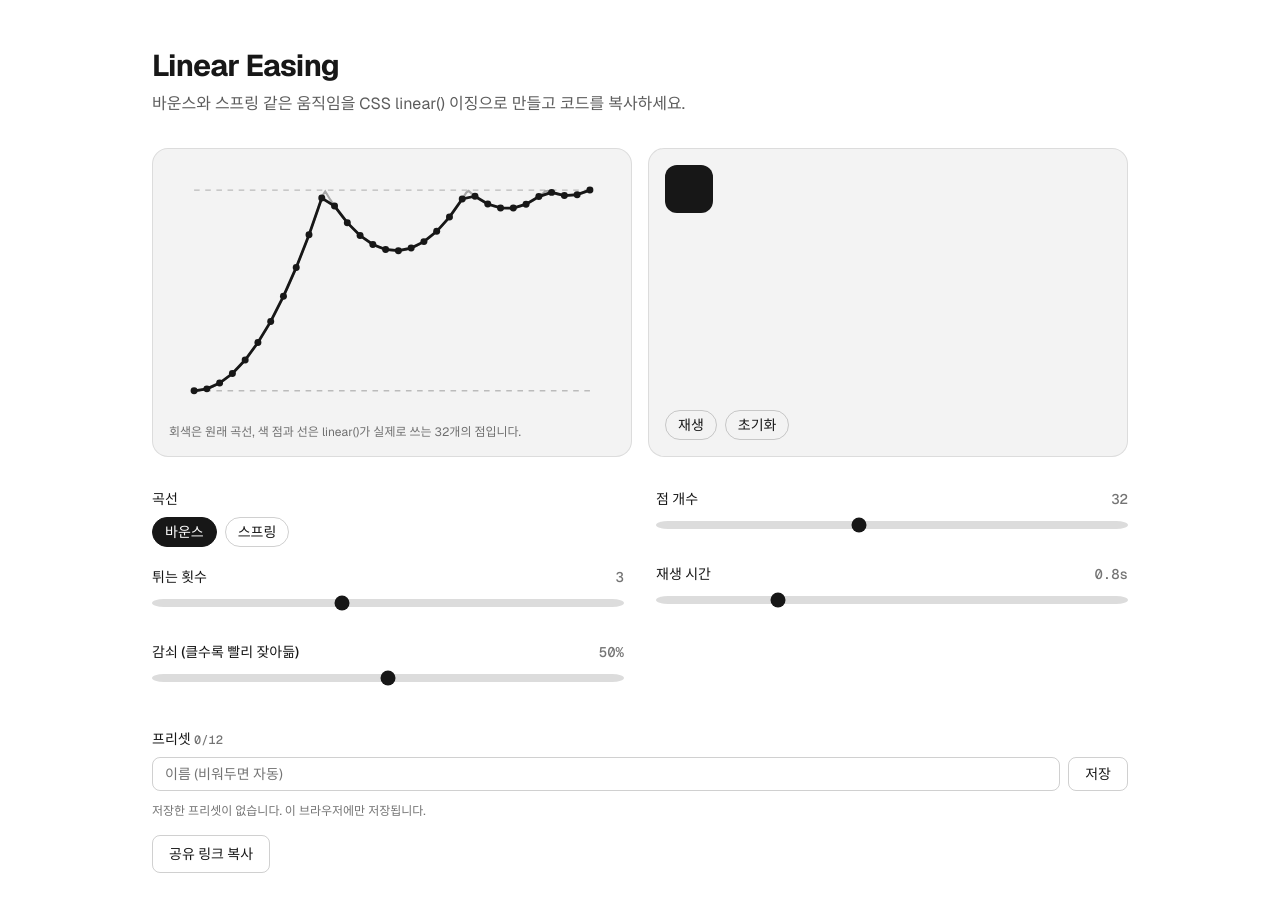
Test case: LinearEasingMaker › 재생을 누르면 상자가 끝으로 이동하고 되돌리기로 바뀐다
The width and height of the screenshot is (1280, 900).
Click the button "재생". click: (691, 425)
box: [665,410,717,440]
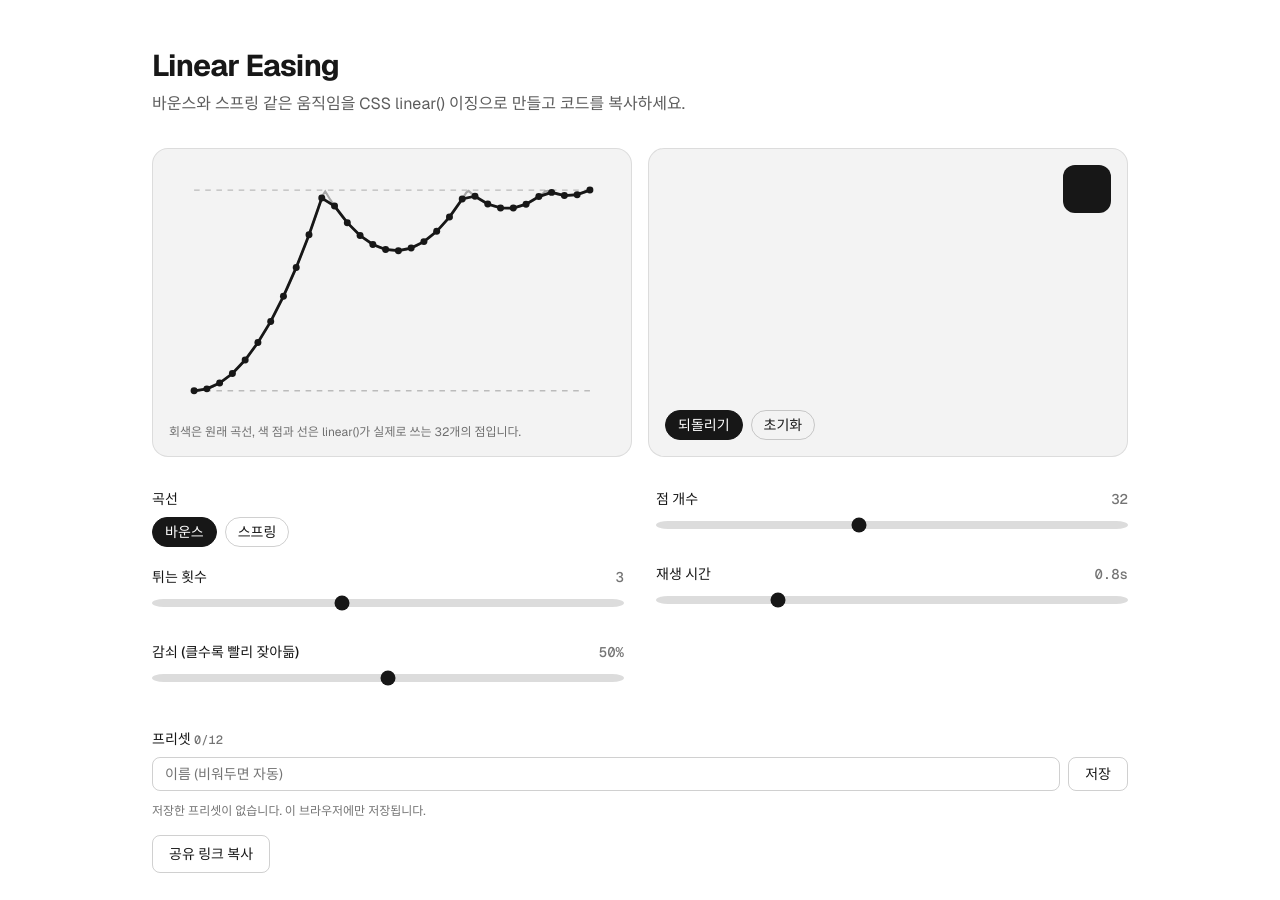
expect the button "되돌리기" is shown: met, box [665,410,742,440]
